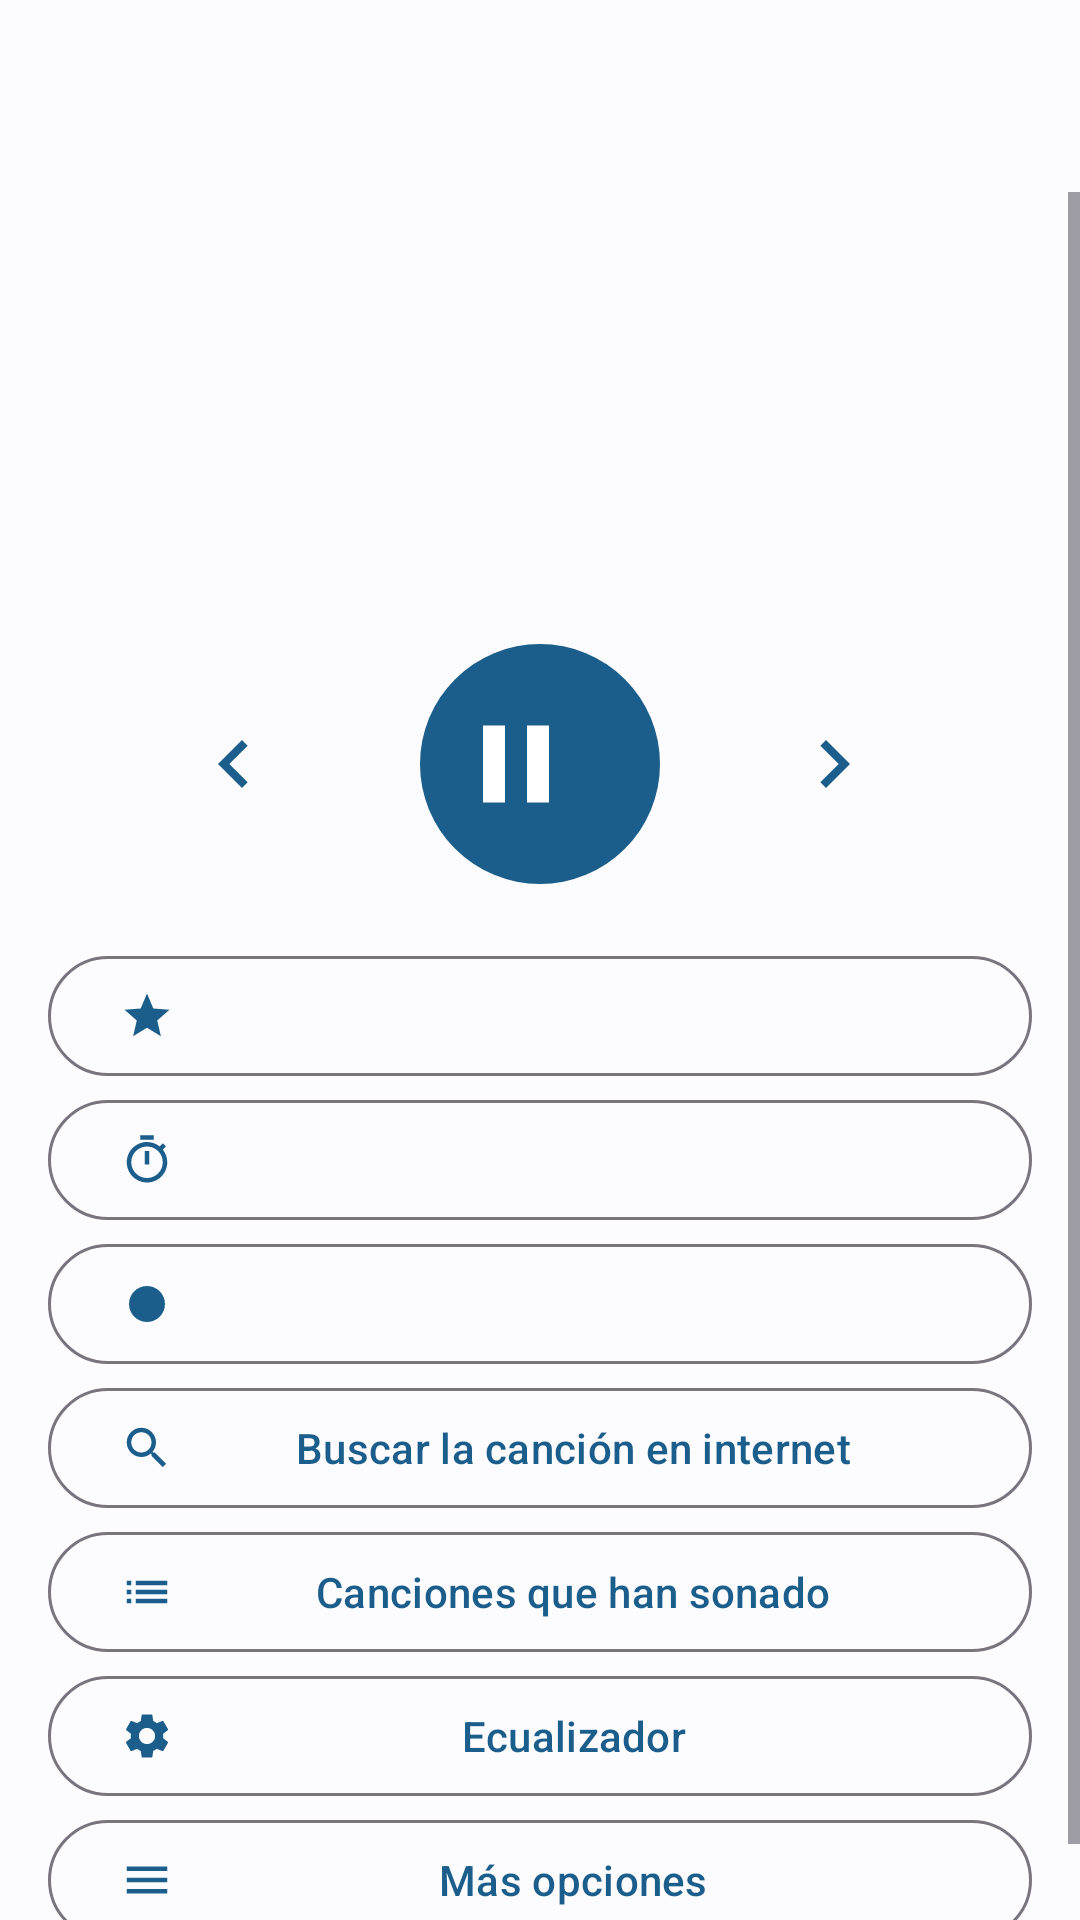

Named icons in this screenshot (1080px×1920px) and their centers, (x=x, y=y):
Emisora anterior: (x=233, y=764)
Emisora siguiente: (x=835, y=764)
Pausar: (x=540, y=764)
